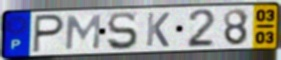2: (187, 8, 217, 49)
8: (222, 8, 250, 47)
K: (145, 11, 172, 48)
M: (63, 13, 103, 51)
P: (31, 13, 67, 55)
S: (106, 11, 140, 52)
